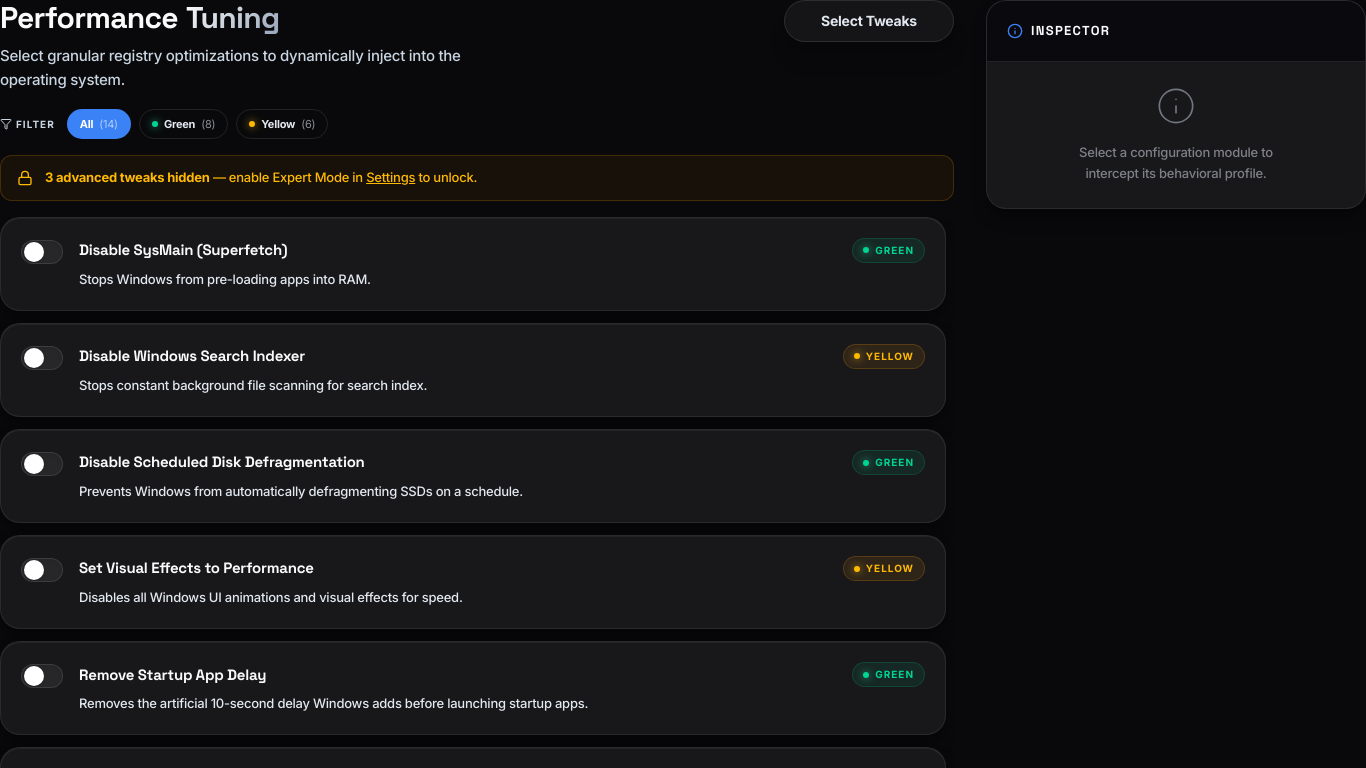
it: TweaksPage integration › opens ProgressModal after confirming deploy
The width and height of the screenshot is (1366, 768).
Click the element named "Toggle selection" at (42, 252), box [21,240,63,264]
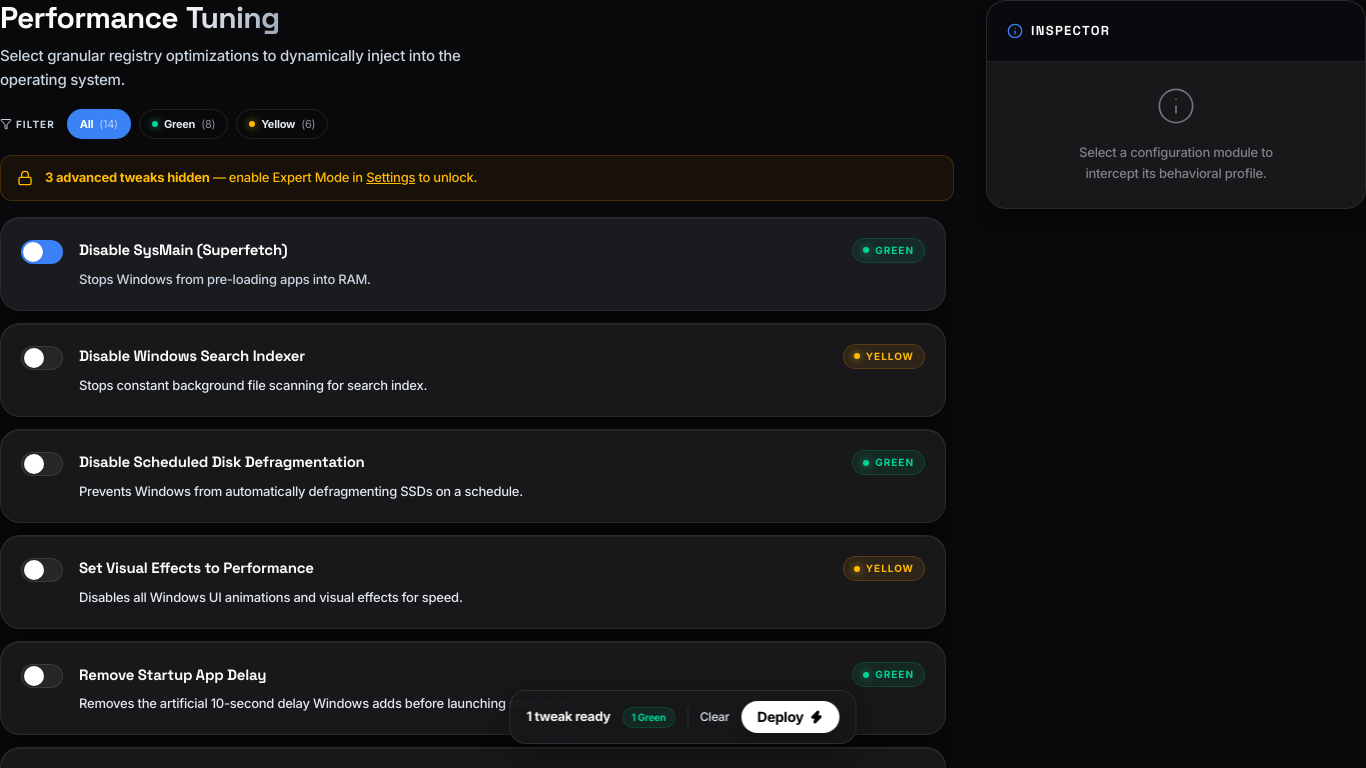
Expected: the text "1 tweak ready" is shown, [526,707,610,727]
Click the button "Deploy" at (790, 717), box [741,701,840,733]
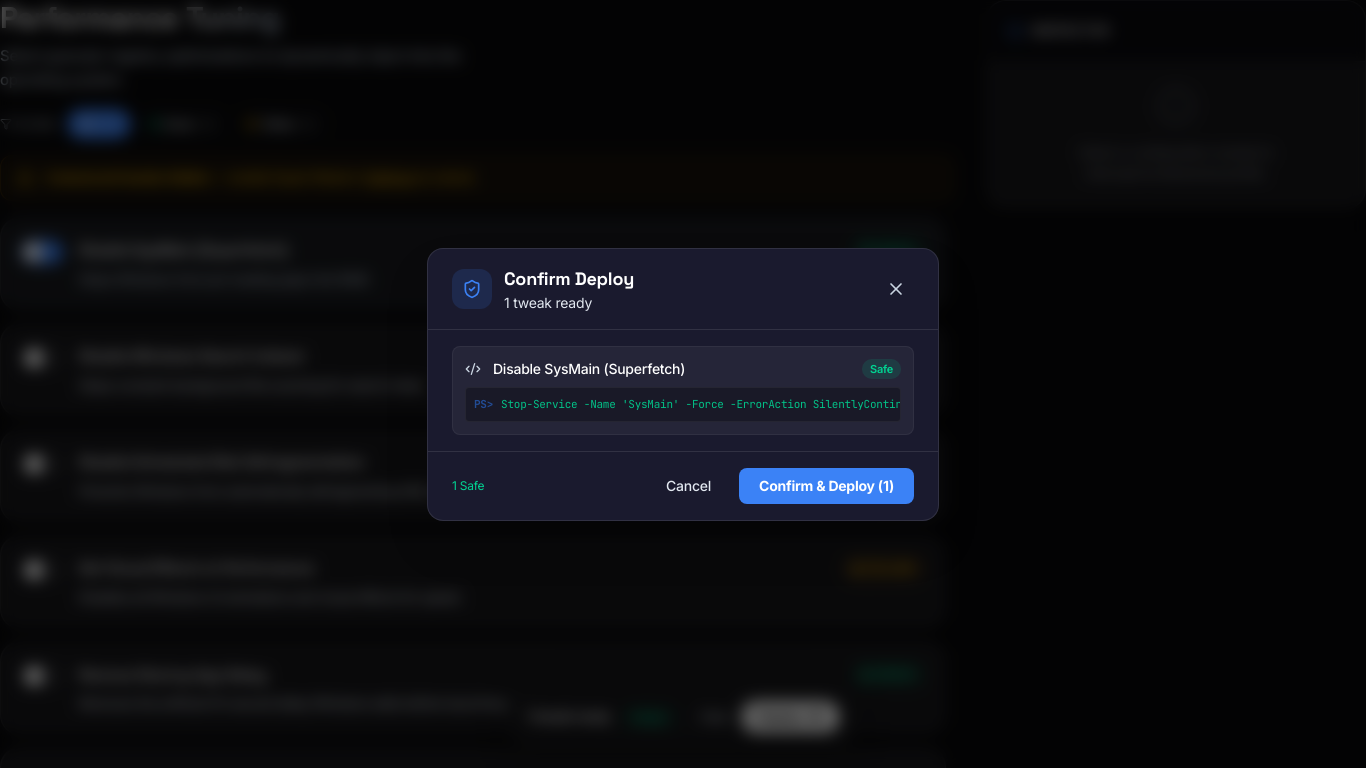
Click the button "Confirm & Deploy (1)" at (826, 486), box [739,468,914,504]
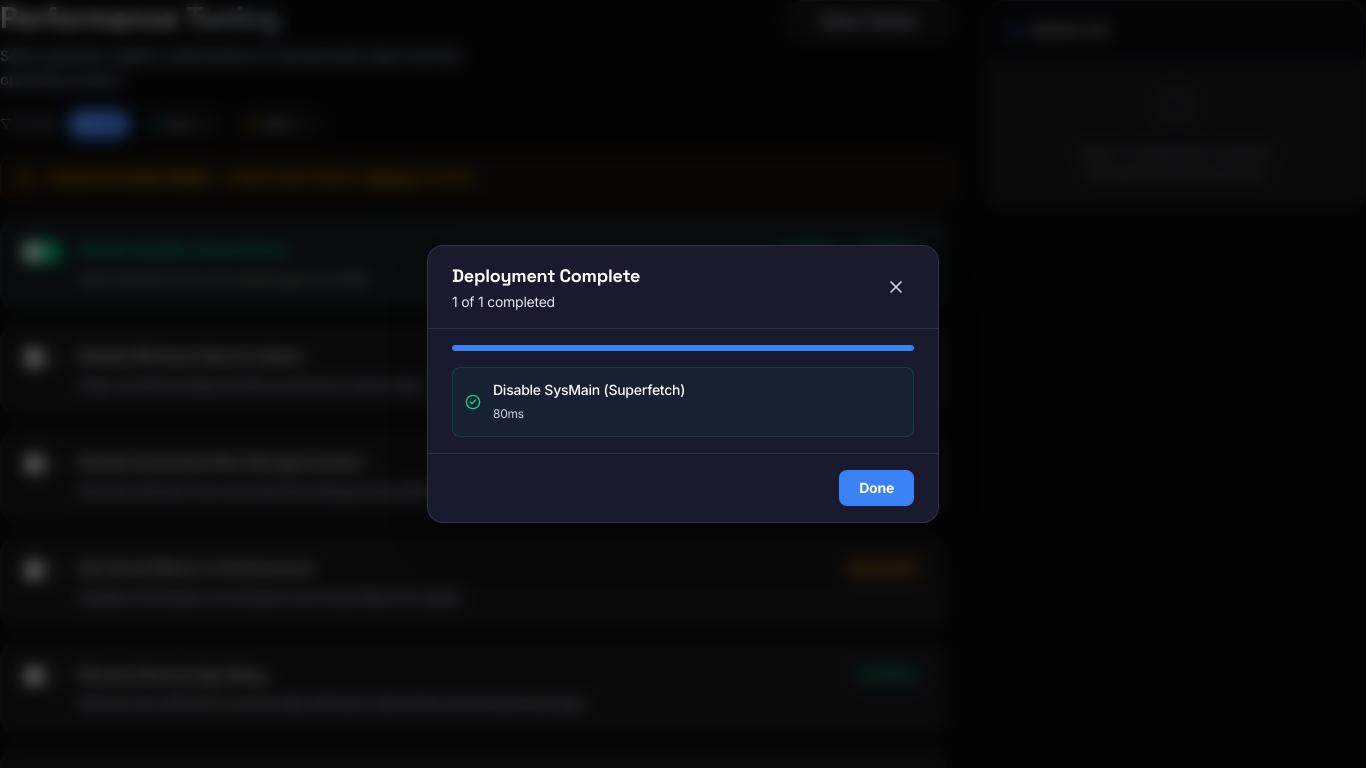
Expected: the heading "Deployment Complete" is shown, [452,262,640,290]
